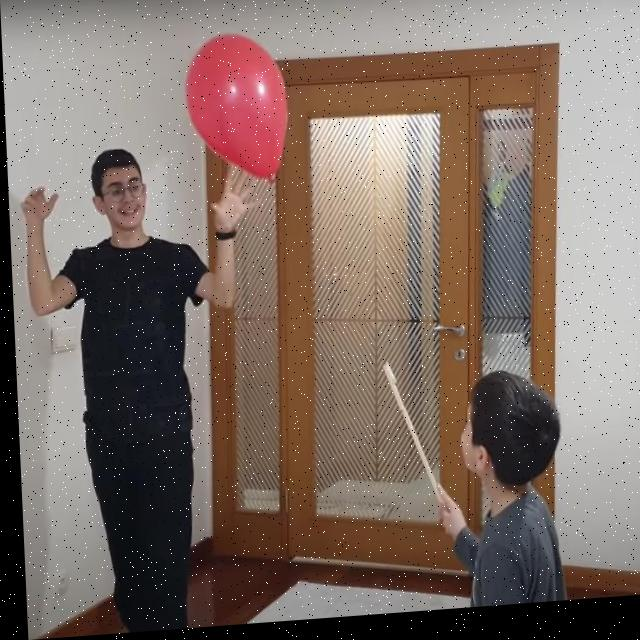balloon: (180, 33, 292, 191)
